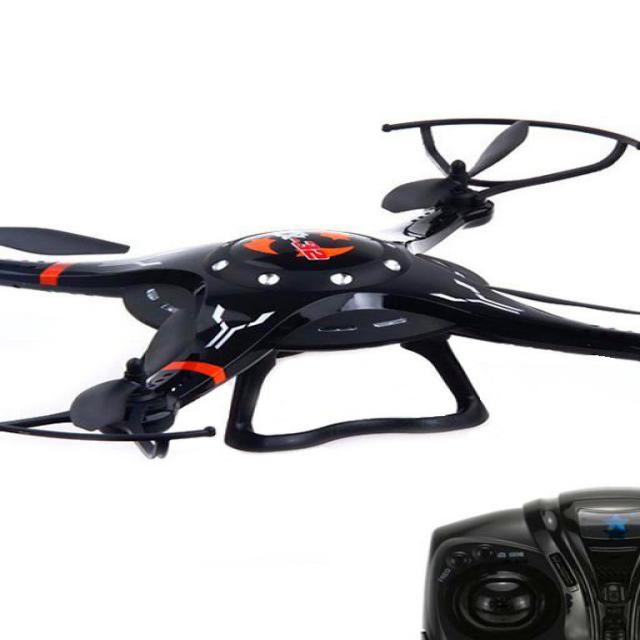drone: (0, 108, 640, 486)
